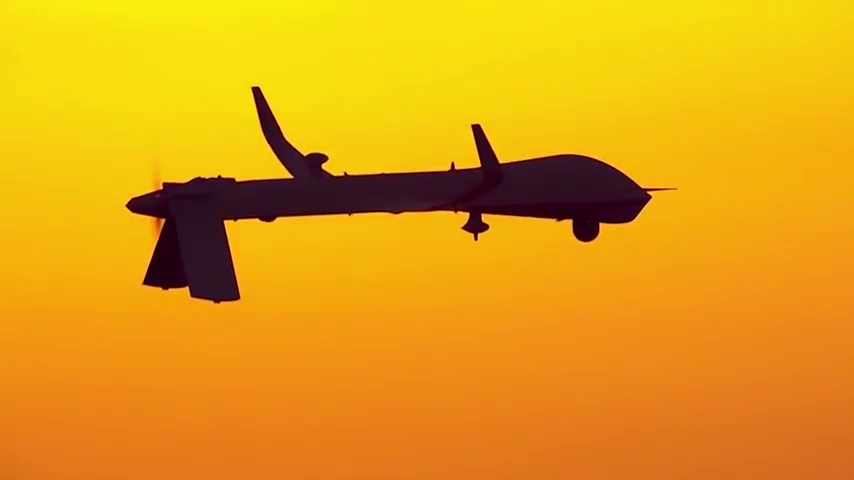military drone: (125, 85, 678, 303)
